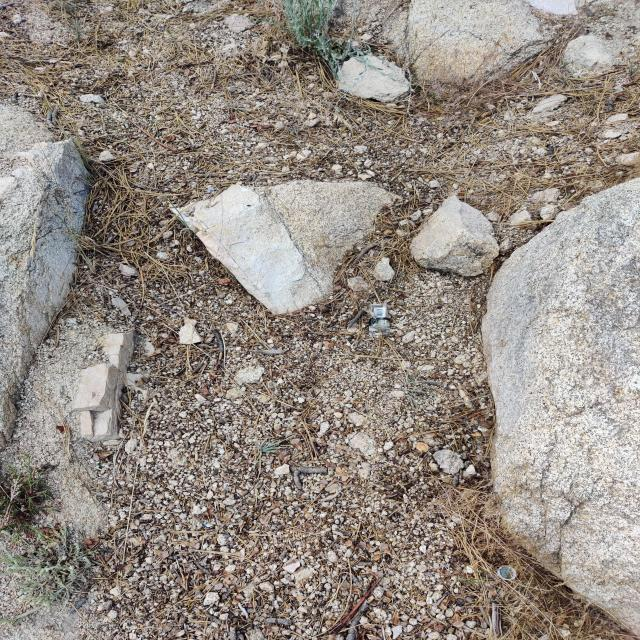litter: (369, 303, 390, 336), (497, 566, 517, 580)
